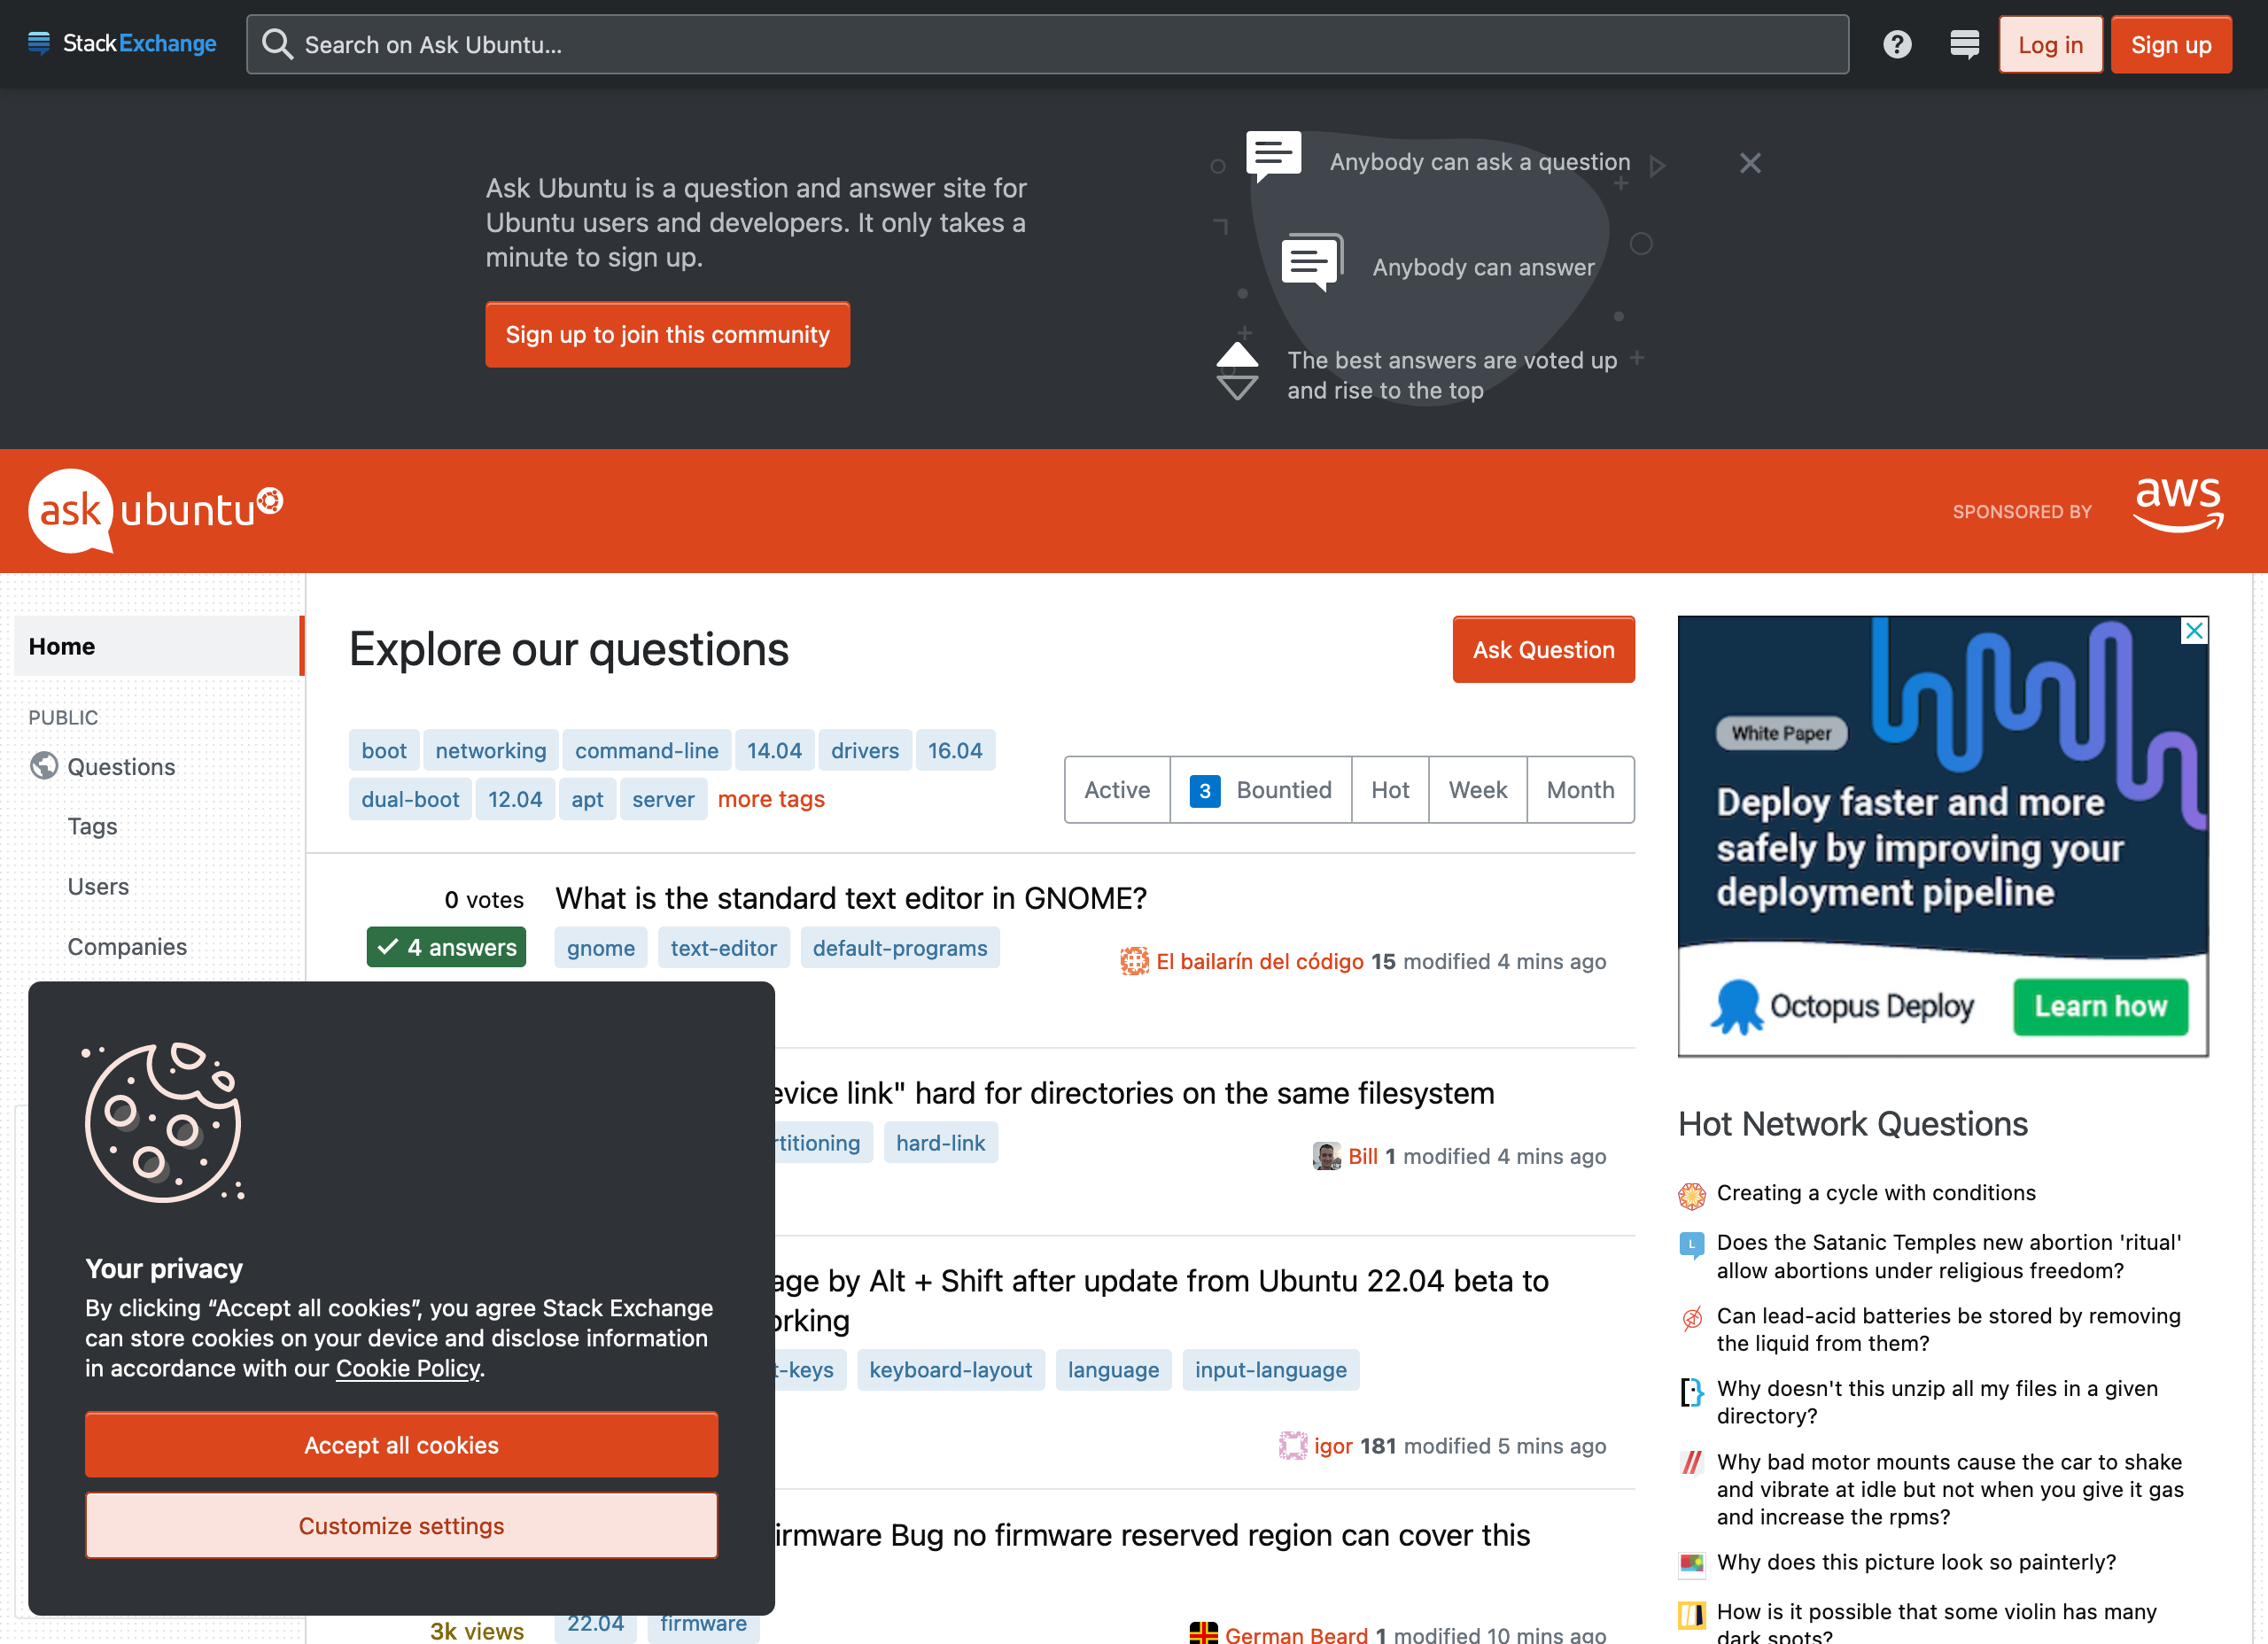Login: (1993, 12, 2108, 79)
